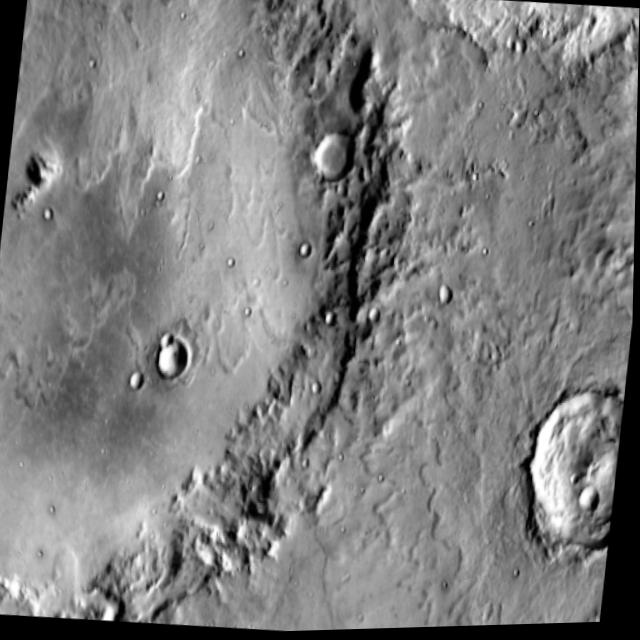Crater: (0, 0, 463, 640), (200, 0, 640, 130), (429, 344, 630, 607), (28, 0, 280, 8)
